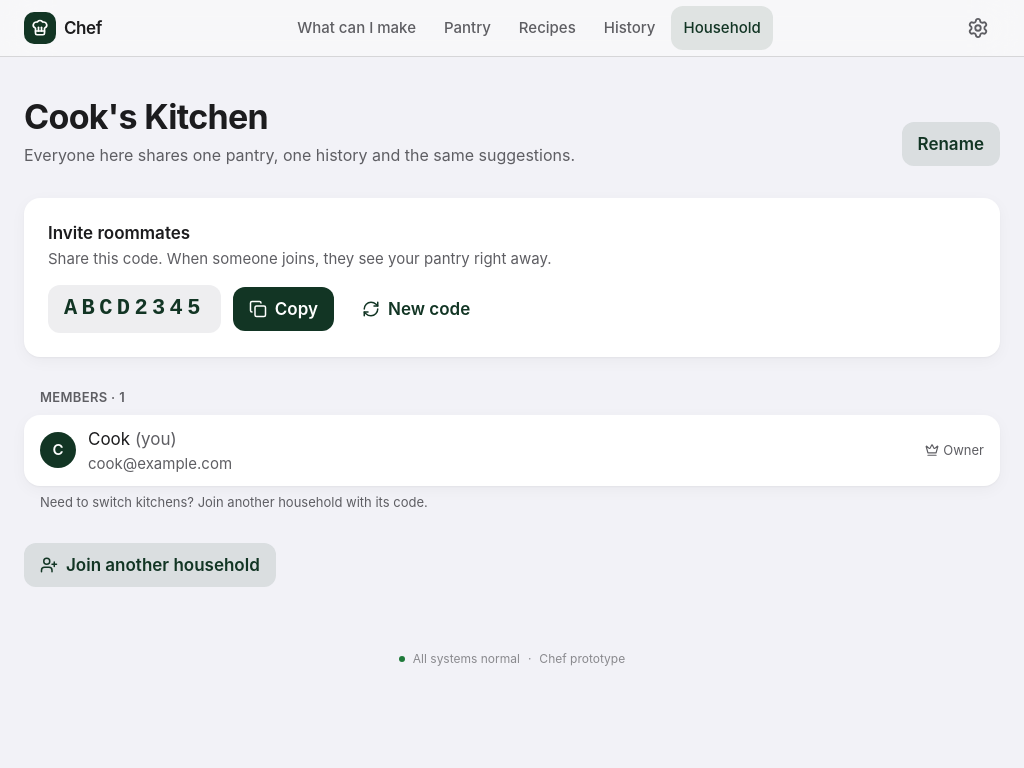
Test: HouseholdPage › makes a new code
This screenshot has width=1024, height=768.
Click the button "New code". click: click(416, 309)
box: [346,287,486,331]
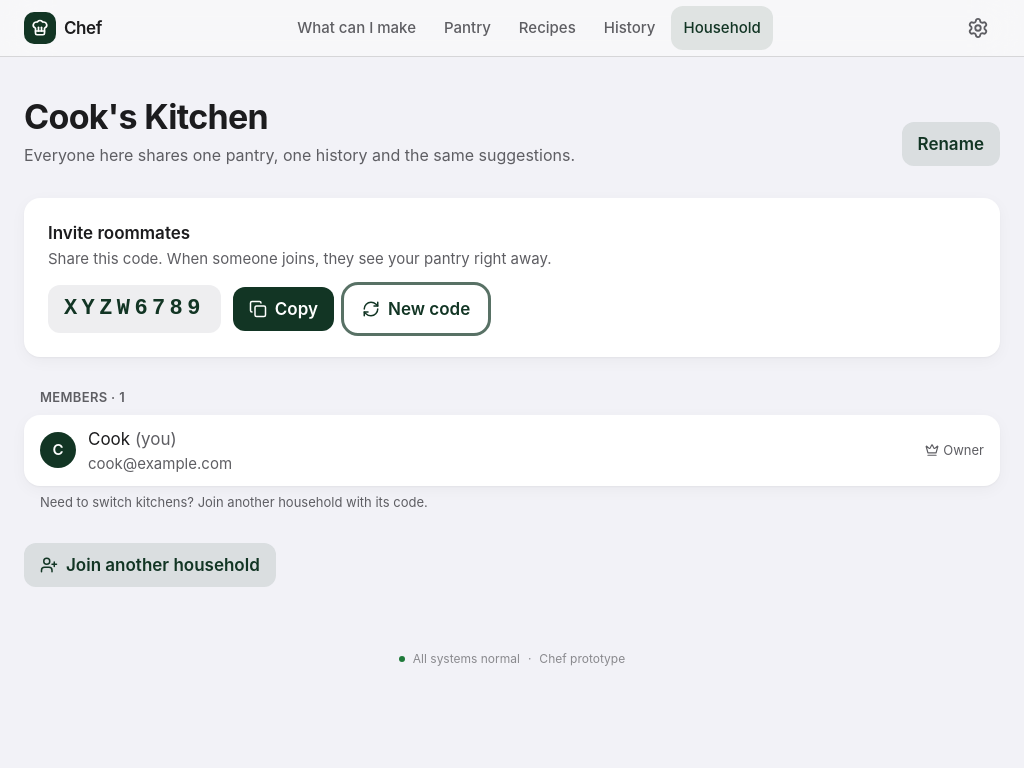
Check: the text "XYZW6789" is shown, box [48,285,221,333]
